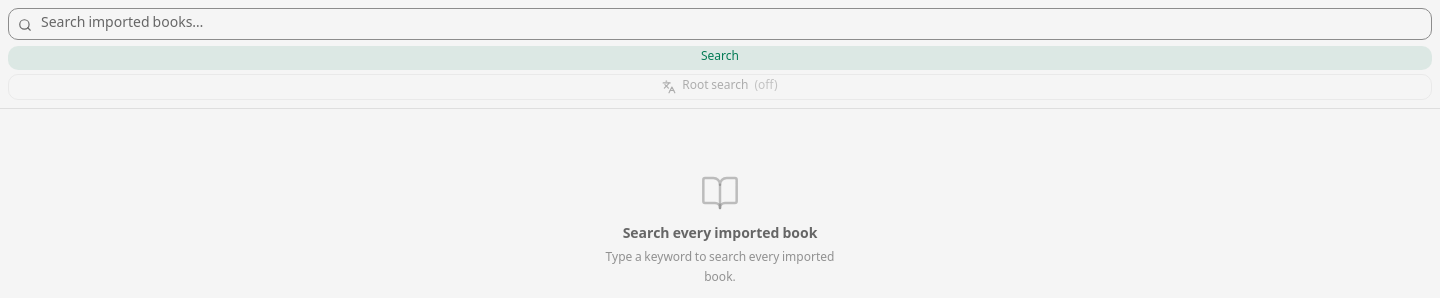
SearchTab — on plain web (no window.electronAPI at all) › shows the real 'no results' state (not desktop-only) when the bridge answers empty
This screenshot has width=1440, height=298.
Type "xyz" into the field with placeholder "Search imported books…" at (720, 24), box [8,8,1432,40]
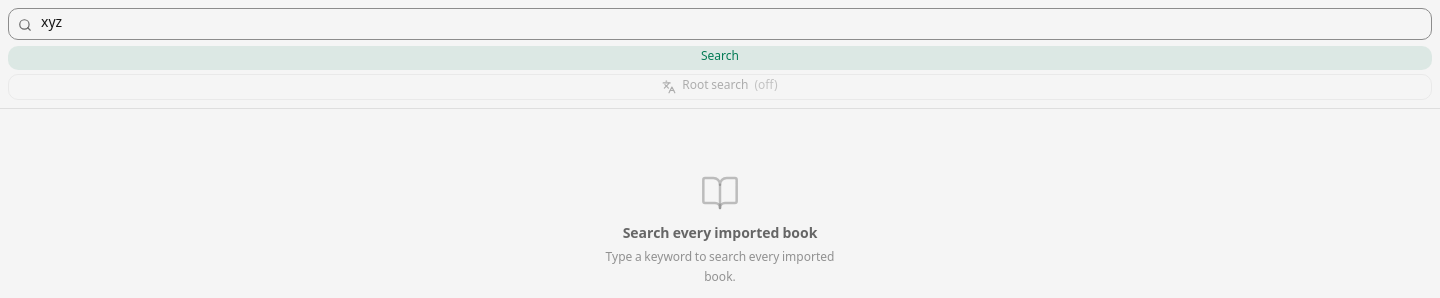
Click the button "Search" at (720, 58), box [8,46,1432,70]
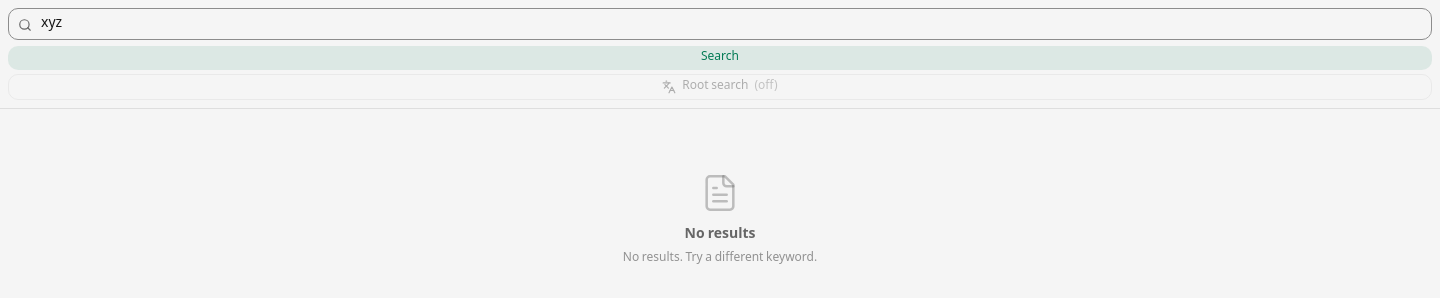
expect the heading "No results" is shown: met, box [684,225,756,245]
